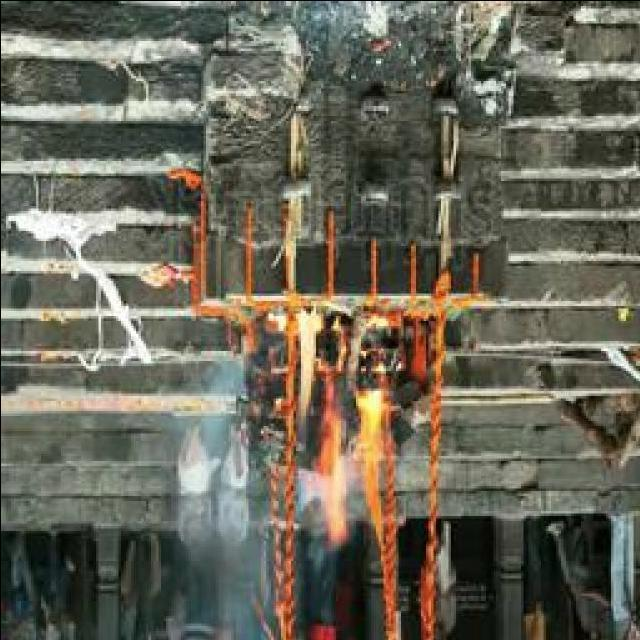Fire: (287, 311, 394, 540)
